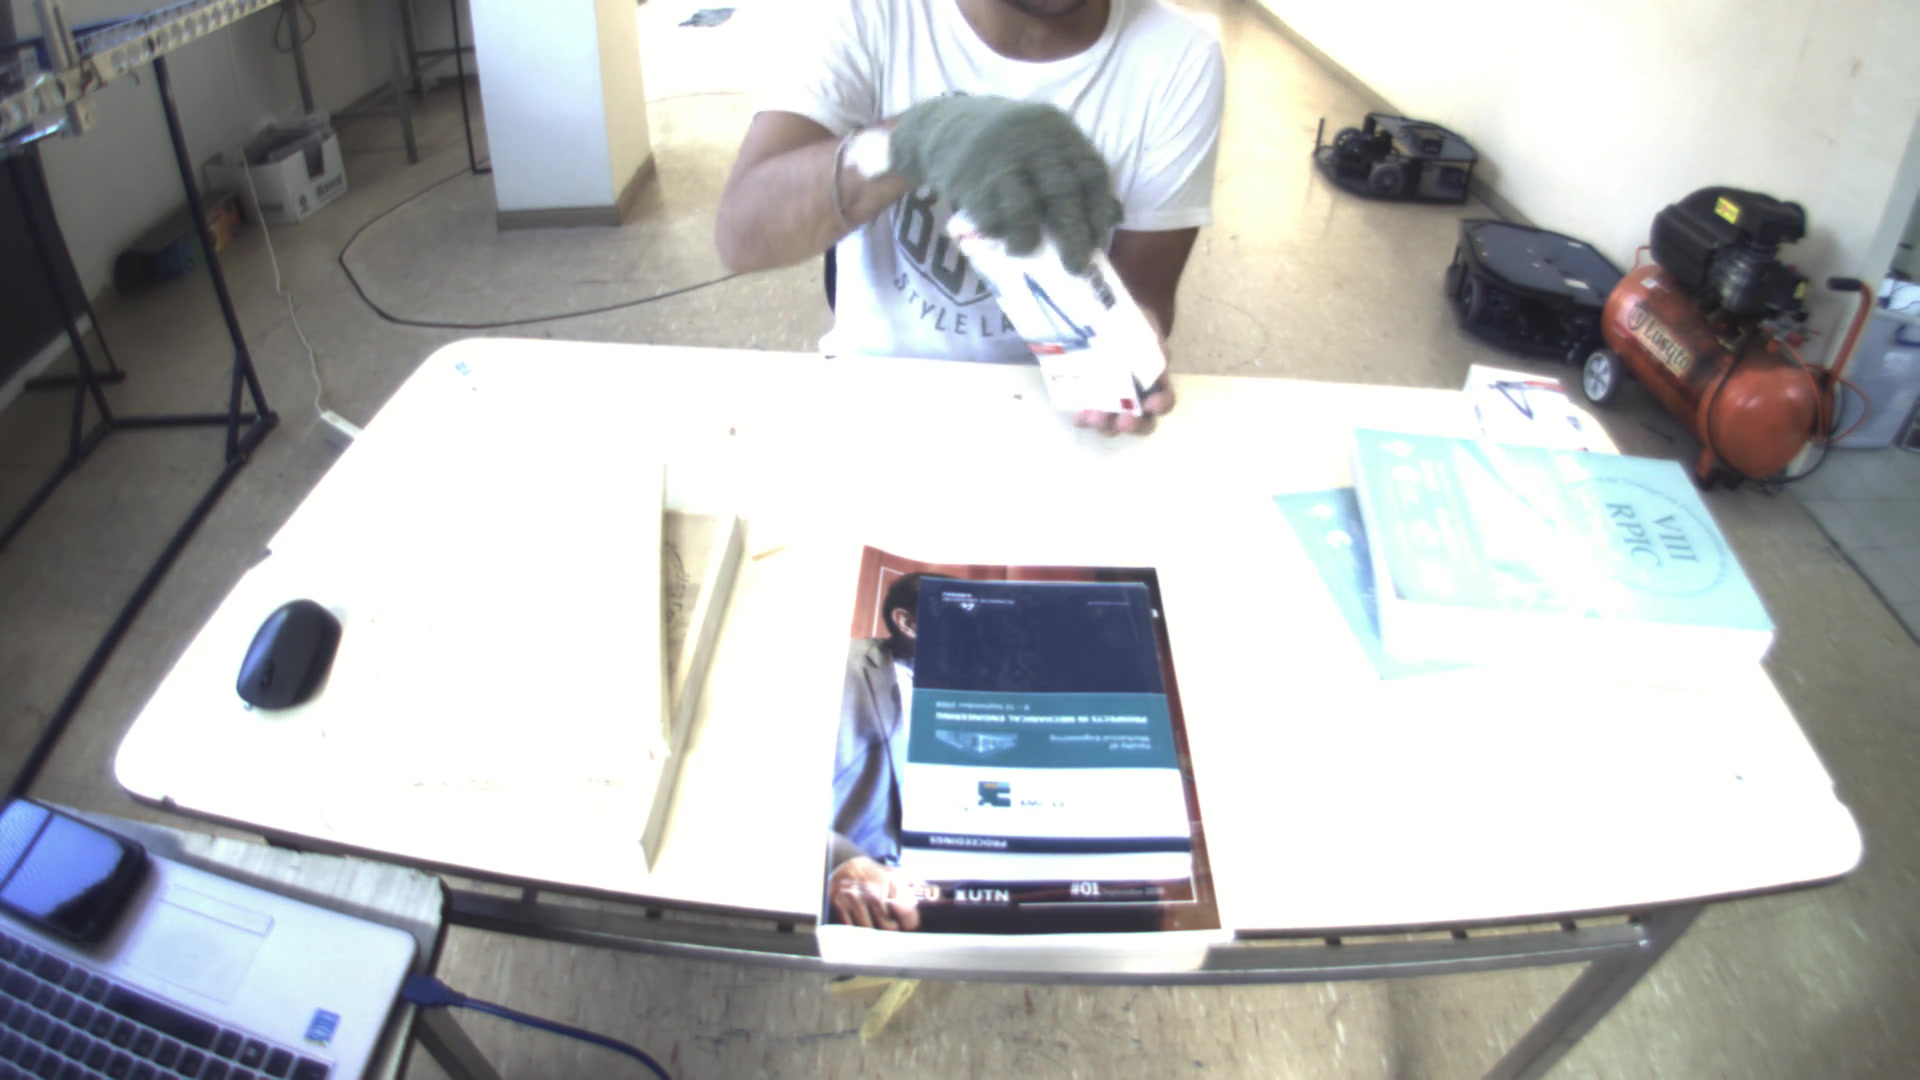hand: (884, 82, 1127, 261)
